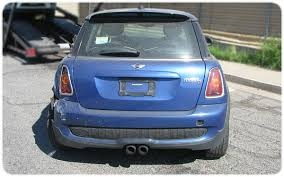Scratch: (48, 99, 70, 123)
